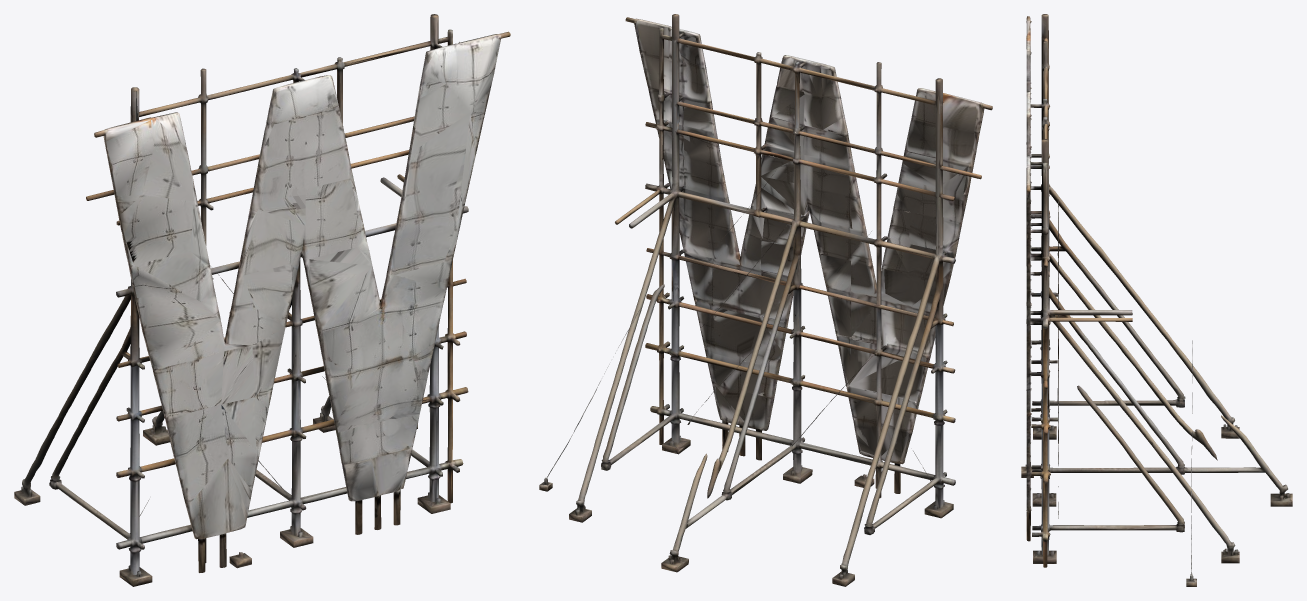
File: sign-letter-W.glb
The picture shows the model from 3 angles, left to right: view 1: azimuth 30°, elevation 25°; view 2: azimuth 150°, elevation 25°; view 3: azimuth 270°, elevation 25°; orthographic projection. The views are drawn at different scales.
Visible parts, largest first — view 1: model; view 2: model; view 3: model.
Boxes of the visible parts, x1,y1,x2,y2 form: model: (14,14,510,586); model: (539,14,992,586); model: (1021,14,1292,586).
Size of the model in its own units: 11.81 by 13.4 by 7.82.
Materials: 1 (1 with a texture image).
